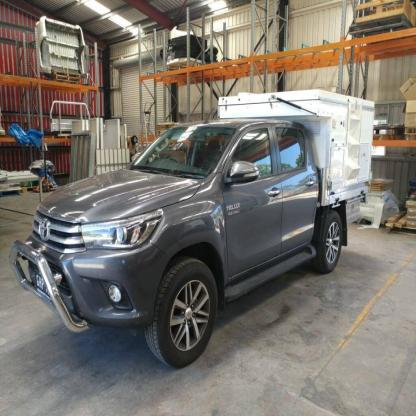light_vehicle: (11, 72, 382, 370)
